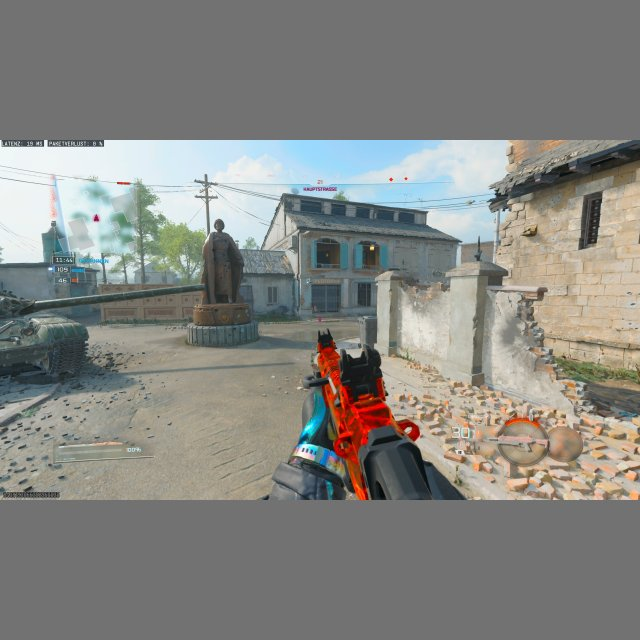head: (317, 329, 334, 350)
